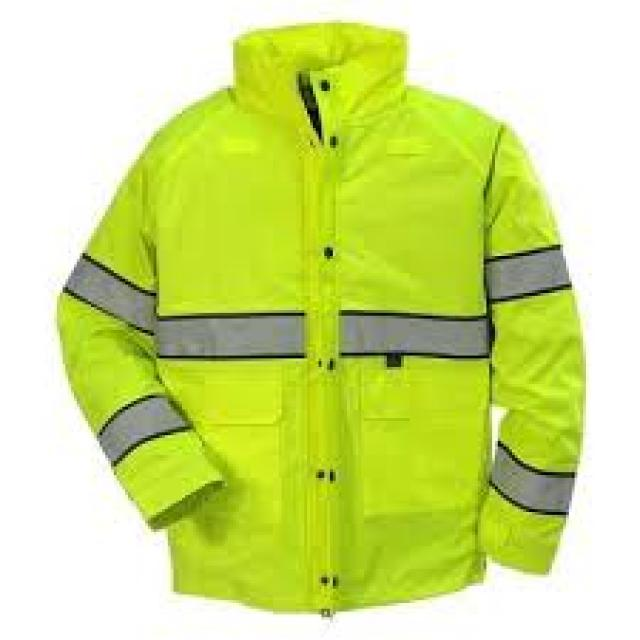Reflective-Jacket: (28, 5, 628, 640)
